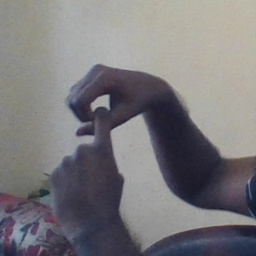Q: (48, 62, 152, 210)
